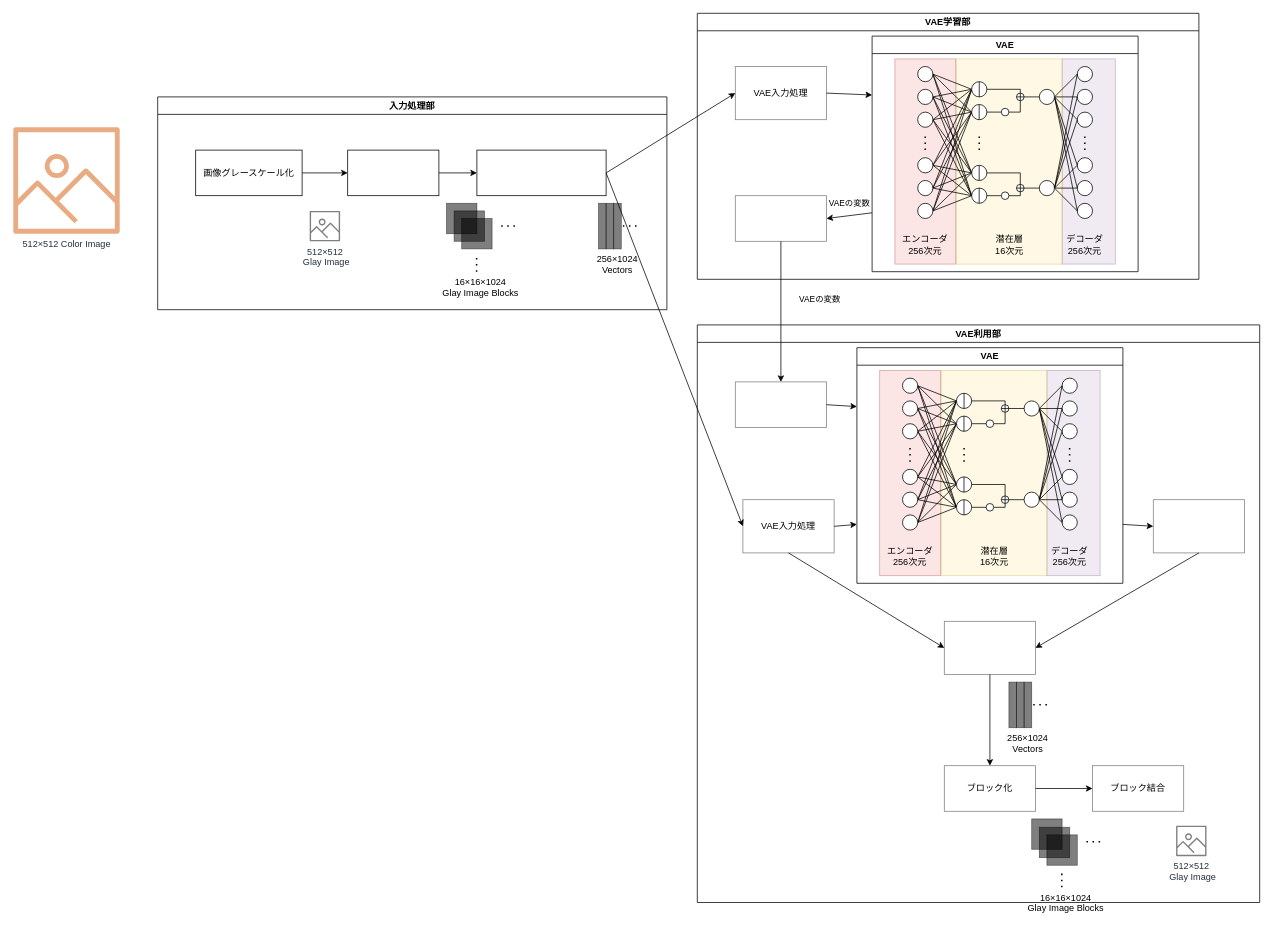
This 1273x927 diagram has some shape labels left out. Here are the shapes that lost their labels. From the top down, the centre of each, then its label:
At [393,172]: "ブロック分割".
At [541,172]: "ブロック縦ベクトル化".
At [780,218]: "VAE学習管理".
At [780,404]: "VAE利用管理".
At [1198,526]: "VAE出力処理".
At [990,647]: "入出力比較・選択".
